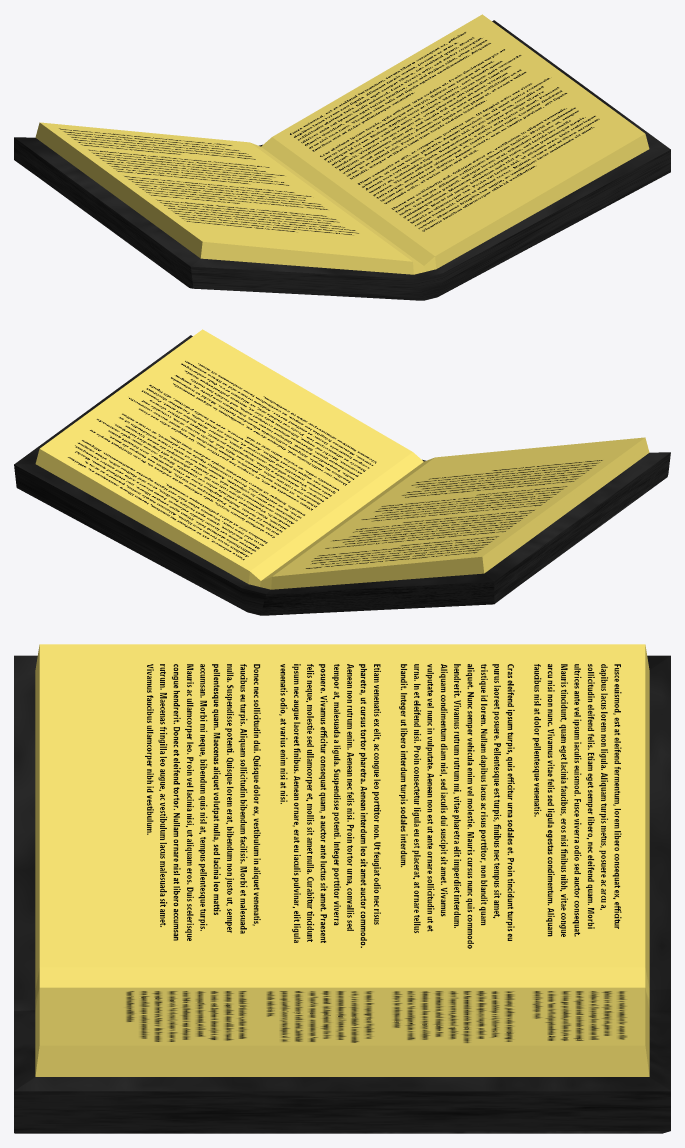
Rendered from JokeBook.fbx.
3 views of the same model, one above another, from view 1: azimuth 30°, elevation 25°; view 2: azimuth 150°, elevation 25°; view 3: azimuth 270°, elevation 25° (orthographic). The views are drawn at different scales.
Parts seen in each view (by area): view 1: Cube; view 2: Cube; view 3: Cube.
Boxes of the visible parts, <box> form: Cube: <box>14,14,670,300</box>; Cube: <box>14,329,670,615</box>; Cube: <box>14,644,670,1133</box>.
Bounding box in the file's own units: 314 × 66.5 × 200.
